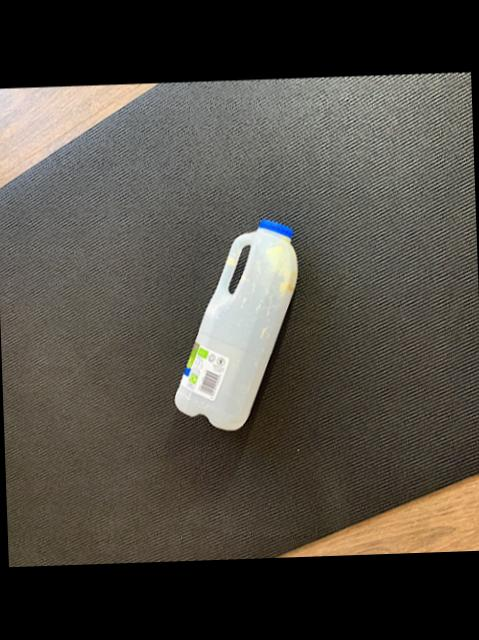plastic: (175, 219, 296, 429)
